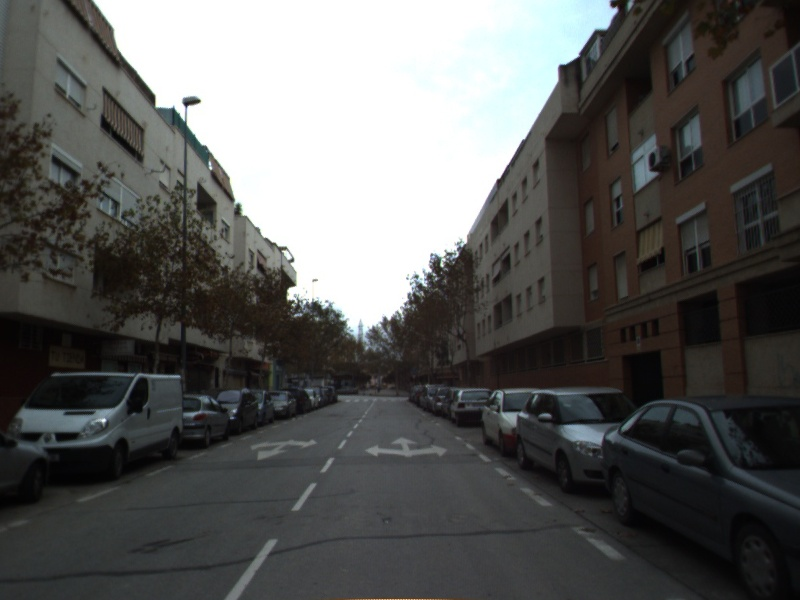STRAIGHT_LEFT_RIGHT: (363, 434, 450, 459)
